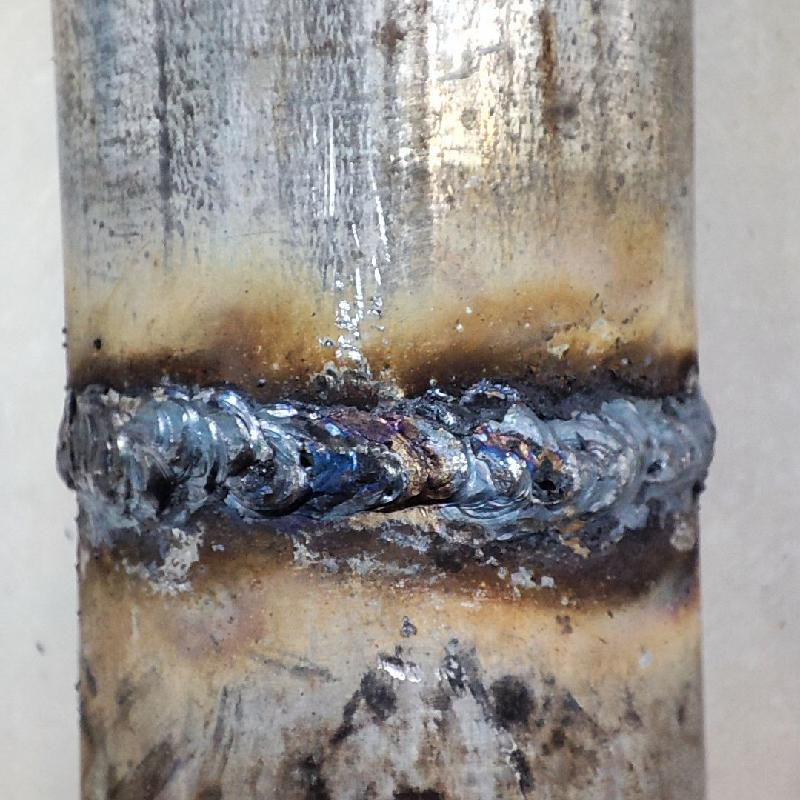Surface_pores: (526, 461, 573, 507), (288, 441, 328, 476), (375, 474, 404, 506), (644, 455, 669, 483)
good: (43, 371, 721, 529)
